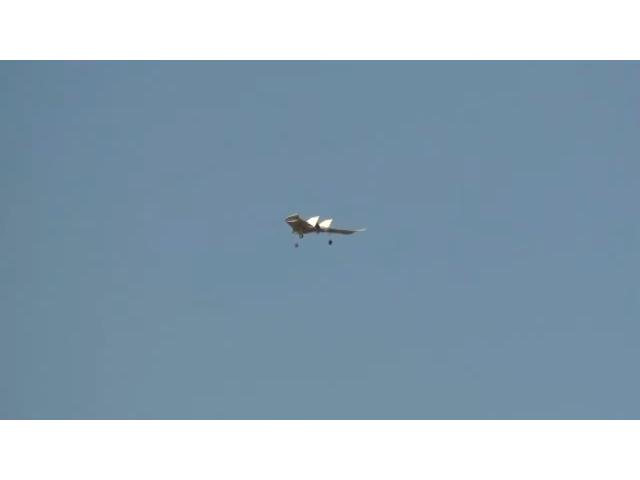Anti-Drone: (286, 216, 366, 236)
